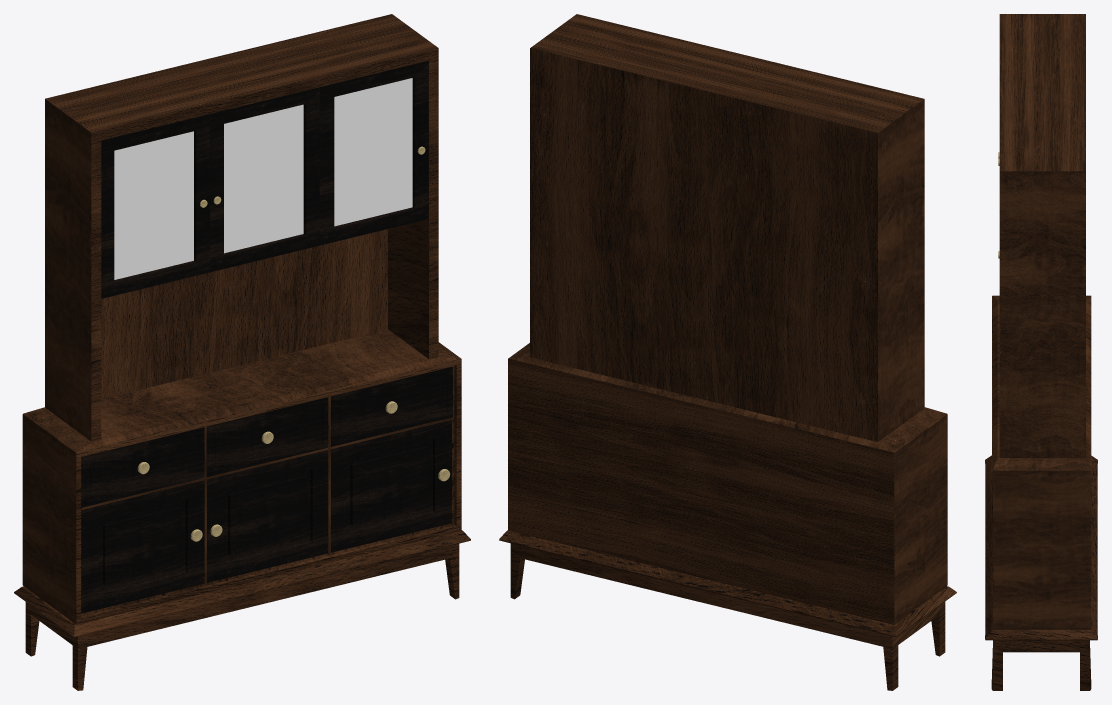
File: armario.fbx
The picture shows the model from 3 angles, left to right: view 1: azimuth 30°, elevation 25°; view 2: azimuth 150°, elevation 25°; view 3: azimuth 270°, elevation 25°; orthographic projection. The views are drawn at different scales.
Visible parts, largest first — view 1: pCube14, pCube2, pCube10 (×2), polySurface6, polySurface5, polySurface4, pCube1, pCube11, pCube12, pCube5, pCube13, pCube9; view 2: pCube14, pCube2, pCube1; view 3: pCube14, pCube2, pCube1.
Boxes of the visible parts, x1,y1,x2,y2 form: pCube14: [45, 14, 438, 441]; pCube2: [22, 329, 461, 624]; pCube10 (×2): [81, 450, 328, 613]; polySurface6: [210, 87, 319, 272]; polySurface5: [319, 60, 428, 245]; polySurface4: [101, 114, 209, 298]; pCube1: [14, 530, 470, 690]; pCube11: [331, 420, 451, 552]; pCube12: [81, 427, 204, 507]; pCube5: [206, 397, 328, 476]; pCube13: [331, 367, 452, 446]; pCube9: [81, 417, 452, 509]; pCube14: [530, 14, 924, 442]; pCube2: [508, 343, 947, 624]; pCube1: [499, 530, 956, 690]; pCube14: [999, 14, 1085, 457]; pCube2: [992, 295, 1091, 629]; pCube1: [985, 455, 1097, 690].
Size of the model in its own units: 8.31 by 11.02 by 2.2.
